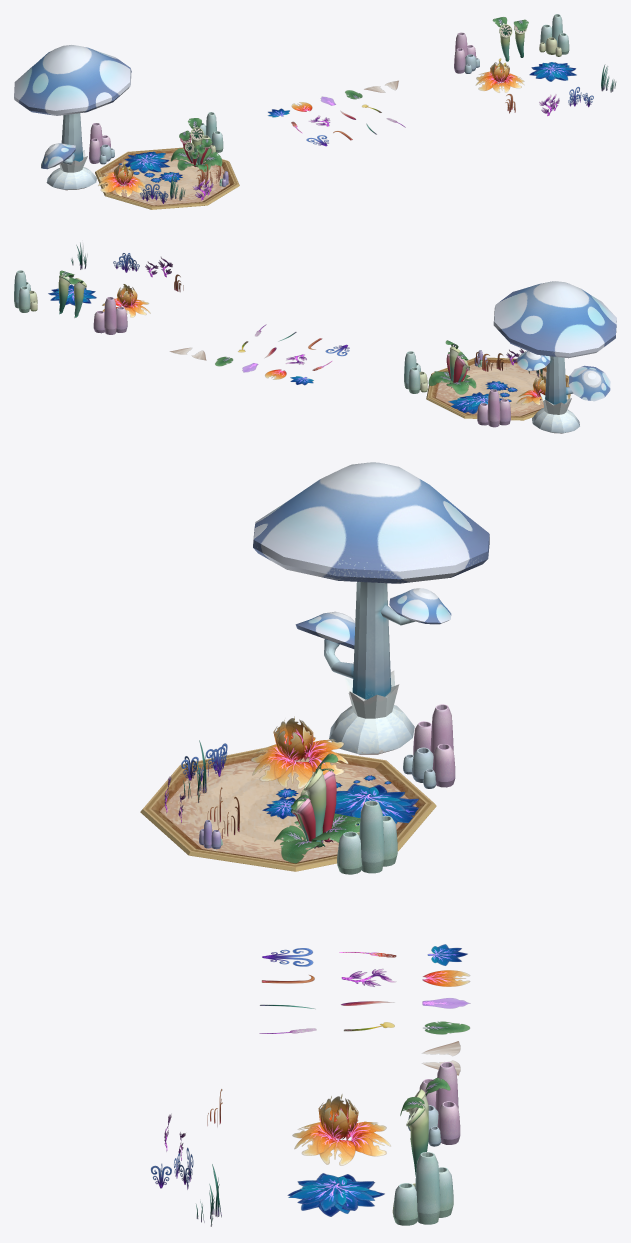
The picture shows the model from 3 angles, top to bottom: view 1: azimuth 30°, elevation 25°; view 2: azimuth 150°, elevation 25°; view 3: azimuth 270°, elevation 25°; orthographic projection. The views are drawn at different scales.
Visible parts, largest first — view 1: polySurface13, pCylinder11, pPlane1, pPlane82, pPlane116, polySurface98, polySurface97, polySurface59, polySurface57, pCylinder21, pCylinder14; view 2: polySurface13, pCylinder11, pPlane1, polySurface59, polySurface97, polySurface57, polySurface98, pPlane116, pCylinder21, pPlane82, pCylinder12, pCylinder14; view 3: polySurface13, pCylinder11, pPlane1, pPlane116, pPlane82, polySurface57, polySurface98, polySurface59, polySurface97, pCylinder21, polySurface93.
Part boxes in pixels (x1=…): polySurface13: x1=14, y1=45, x2=131, y2=190; pCylinder11: x1=95, y1=147, x2=239, y2=209; pPlane1: x1=268, y1=90, x2=405, y2=146; pPlane82: x1=98, y1=161, x2=146, y2=196; pPlane116: x1=475, y1=58, x2=524, y2=92; polySurface98: x1=539, y1=14, x2=569, y2=56; polySurface97: x1=454, y1=32, x2=479, y2=73; polySurface59: x1=89, y1=123, x2=114, y2=164; polySurface57: x1=196, y1=112, x2=223, y2=153; pCylinder21: x1=180, y1=127, x2=210, y2=166; pCylinder14: x1=499, y1=24, x2=512, y2=61; polySurface13: x1=493, y1=281, x2=616, y2=433; pCylinder11: x1=426, y1=357, x2=570, y2=420; pPlane1: x1=215, y1=324, x2=349, y2=385; polySurface59: x1=477, y1=389, x2=510, y2=427; polySurface97: x1=93, y1=297, x2=127, y2=334; polySurface57: x1=404, y1=351, x2=427, y2=393; polySurface98: x1=14, y1=270, x2=37, y2=312; pPlane116: x1=102, y1=284, x2=150, y2=317; pCylinder21: x1=446, y1=346, x2=468, y2=387; pPlane82: x1=516, y1=373, x2=545, y2=404; pCylinder12: x1=58, y1=275, x2=70, y2=314; pCylinder14: x1=74, y1=278, x2=86, y2=317; polySurface13: x1=253, y1=462, x2=489, y2=754; pCylinder11: x1=140, y1=747, x2=436, y2=871; pPlane1: x1=259, y1=944, x2=470, y2=1034; pPlane116: x1=292, y1=1094, x2=390, y2=1165; pPlane82: x1=251, y1=716, x2=348, y2=788; polySurface57: x1=337, y1=800, x2=397, y2=874; polySurface98: x1=392, y1=1152, x2=453, y2=1225; polySurface59: x1=403, y1=704, x2=455, y2=788; polySurface97: x1=408, y1=1062, x2=460, y2=1146; pCylinder21: x1=292, y1=768, x2=336, y2=847; polySurface93: x1=288, y1=1184, x2=374, y2=1216.
Bounding box in the file's own units: 86.84 × 20.44 × 23.75.
10 materials, 10 textured.
